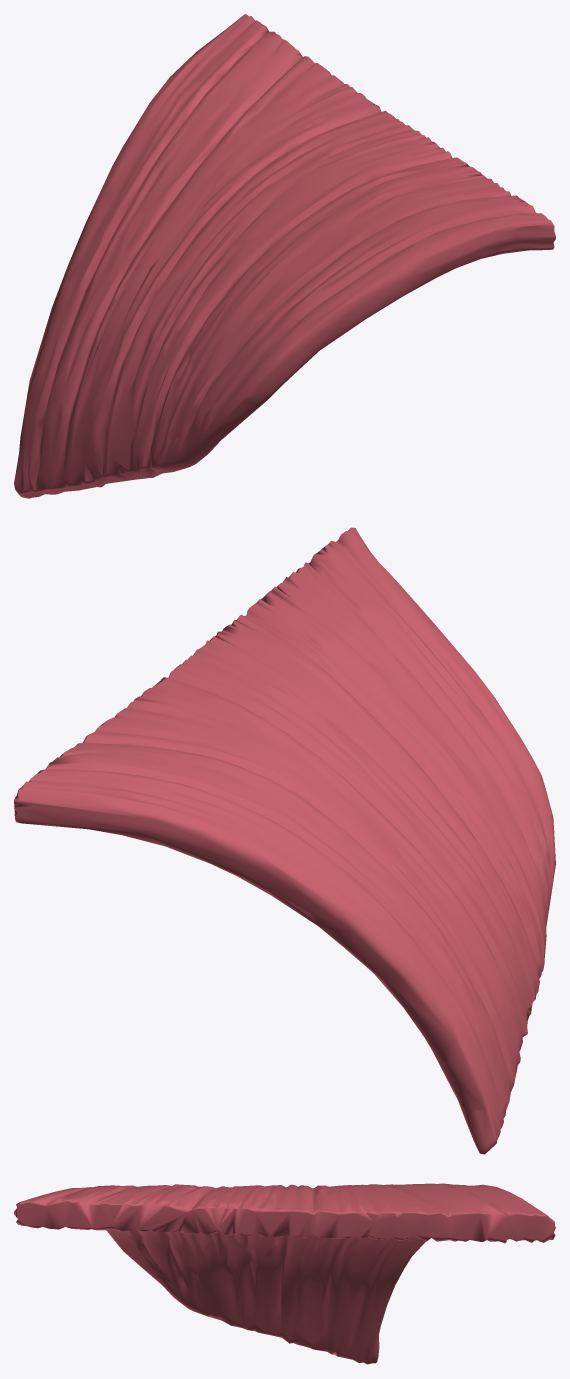
3 renders of one model, top to bottom at view 1: azimuth 30°, elevation 25°; view 2: azimuth 150°, elevation 25°; view 3: azimuth 270°, elevation 25°, orthographic. The views are drawn at different scales.
Parts seen in each view (by area): view 1: 右侧咽上缩肌; view 2: 右侧咽上缩肌; view 3: 右侧咽上缩肌.
Boxes of the visible parts, x1=… form: 右侧咽上缩肌: x1=14, y1=14, x2=555, y2=498; 右侧咽上缩肌: x1=14, y1=527, x2=555, y2=1154; 右侧咽上缩肌: x1=14, y1=1183, x2=555, y2=1364.
Size of the model in its own units: 0.0486 by 0.0481 by 0.079.
